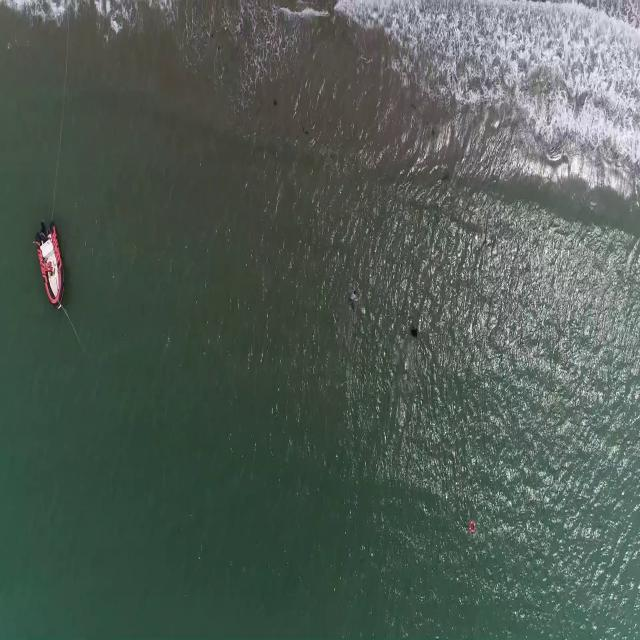boat: (34, 219, 64, 308)
life_buoy: (469, 518, 477, 533)
person: (349, 284, 362, 312), (410, 321, 419, 340)
